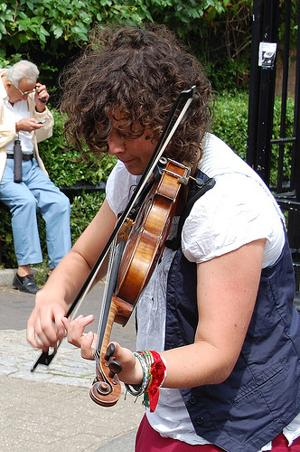person: (26, 25, 300, 452)
